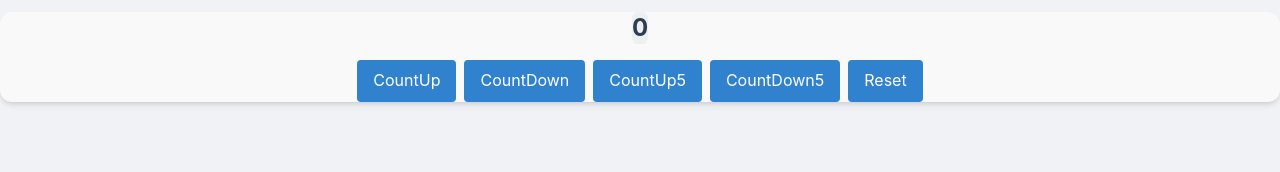
Test: CounterContainer › CountDownボタンで1減る
Click the button "CountDown": x=525, y=81 [464, 60, 585, 102]
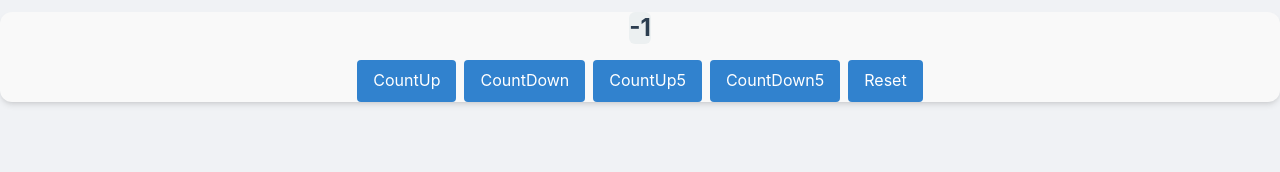
expect the text "-1" is shown: met, box [629, 12, 651, 44]
